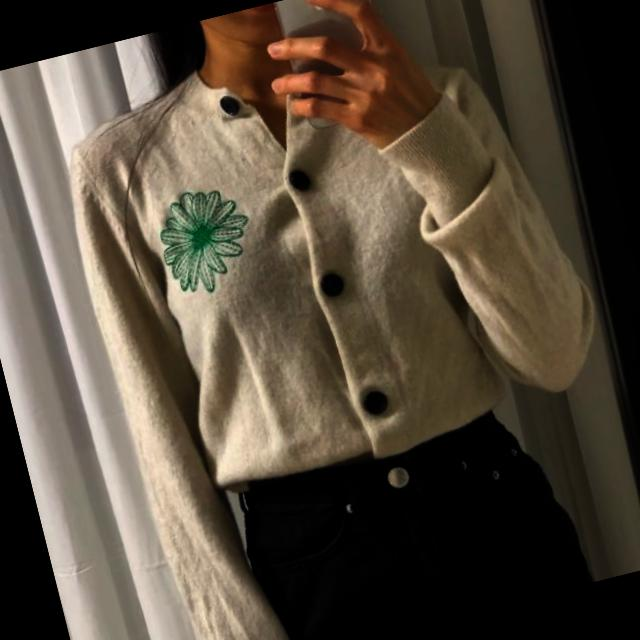cardigan: (42, 0, 640, 640)
denimpants: (215, 390, 609, 640)
